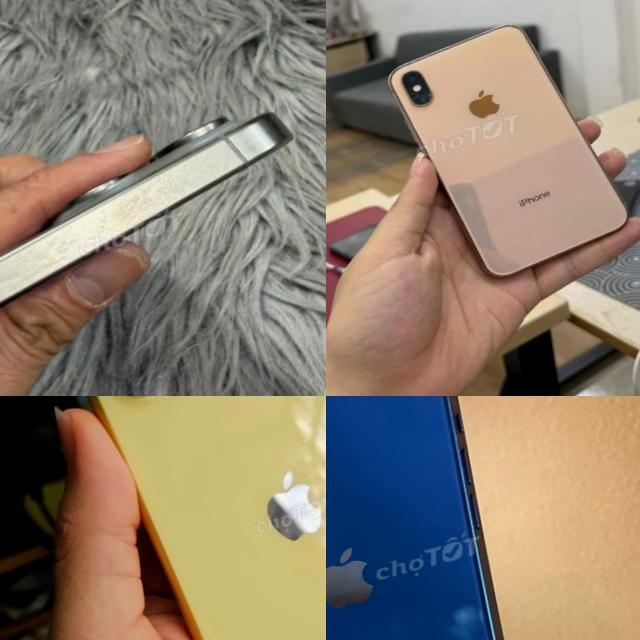gen_11: (88, 396, 326, 640)
gen_12_13: (326, 396, 564, 640)
gen_15: (0, 92, 326, 386)
gen_x_xs: (379, 5, 639, 296)
scratch: (406, 90, 422, 104), (422, 89, 438, 102)
